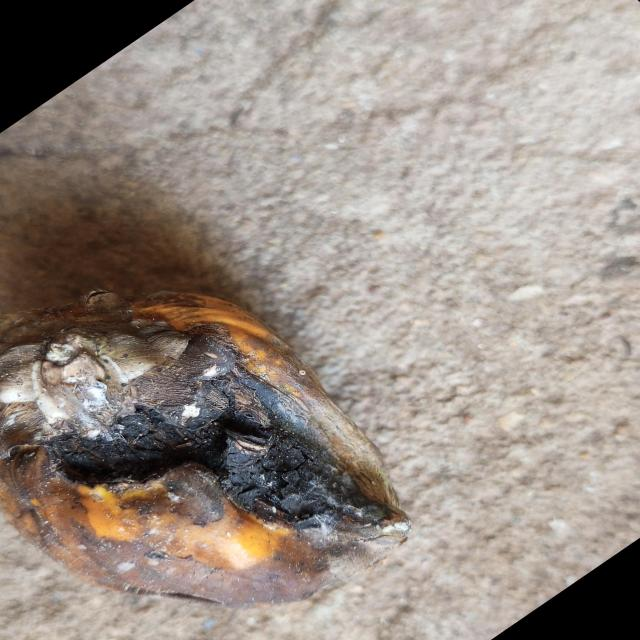damaged: (0, 295, 410, 609)
